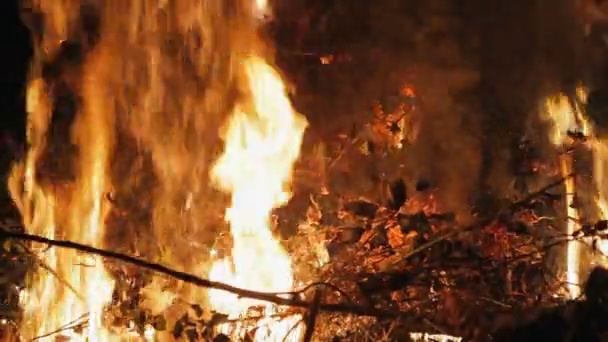fire: (5, 1, 325, 342), (546, 89, 608, 298)
